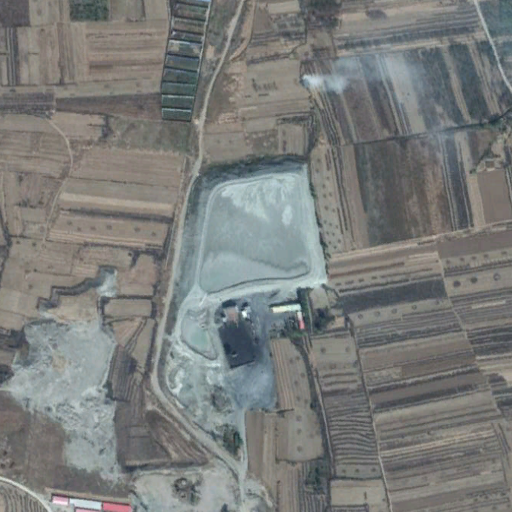tp: (173, 170, 325, 364)
